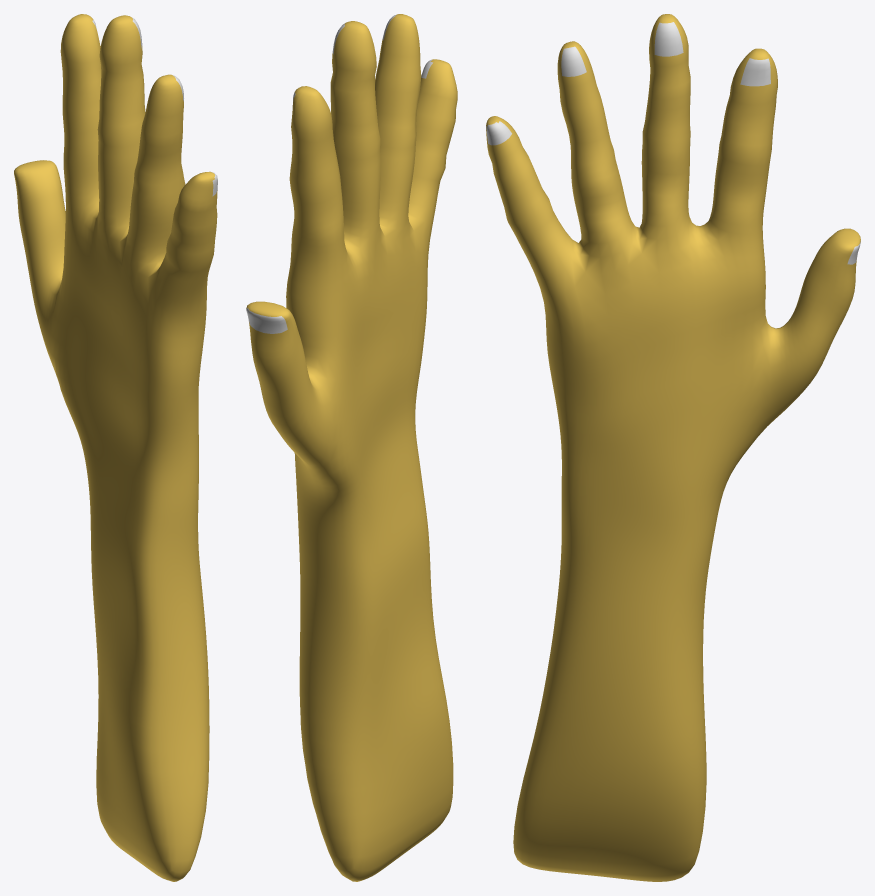
File: LeftHand.fbx
3 renders of one model, left to right at view 1: azimuth 30°, elevation 25°; view 2: azimuth 150°, elevation 25°; view 3: azimuth 270°, elevation 25°, orthographic. The views are drawn at different scales.
Visible parts, largest first — view 1: LeftHand; view 2: LeftHand; view 3: LeftHand.
Boxes of the visible parts, <box> form: LeftHand: <box>14,14,217,881</box>; LeftHand: <box>246,14,457,881</box>; LeftHand: <box>486,14,860,881</box>.
Size of the model in its own units: 67.23 by 574 by 225.
